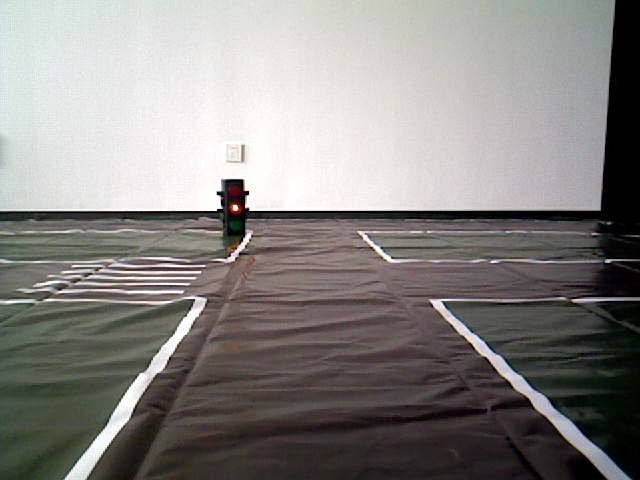yellow: (217, 178, 249, 239)
